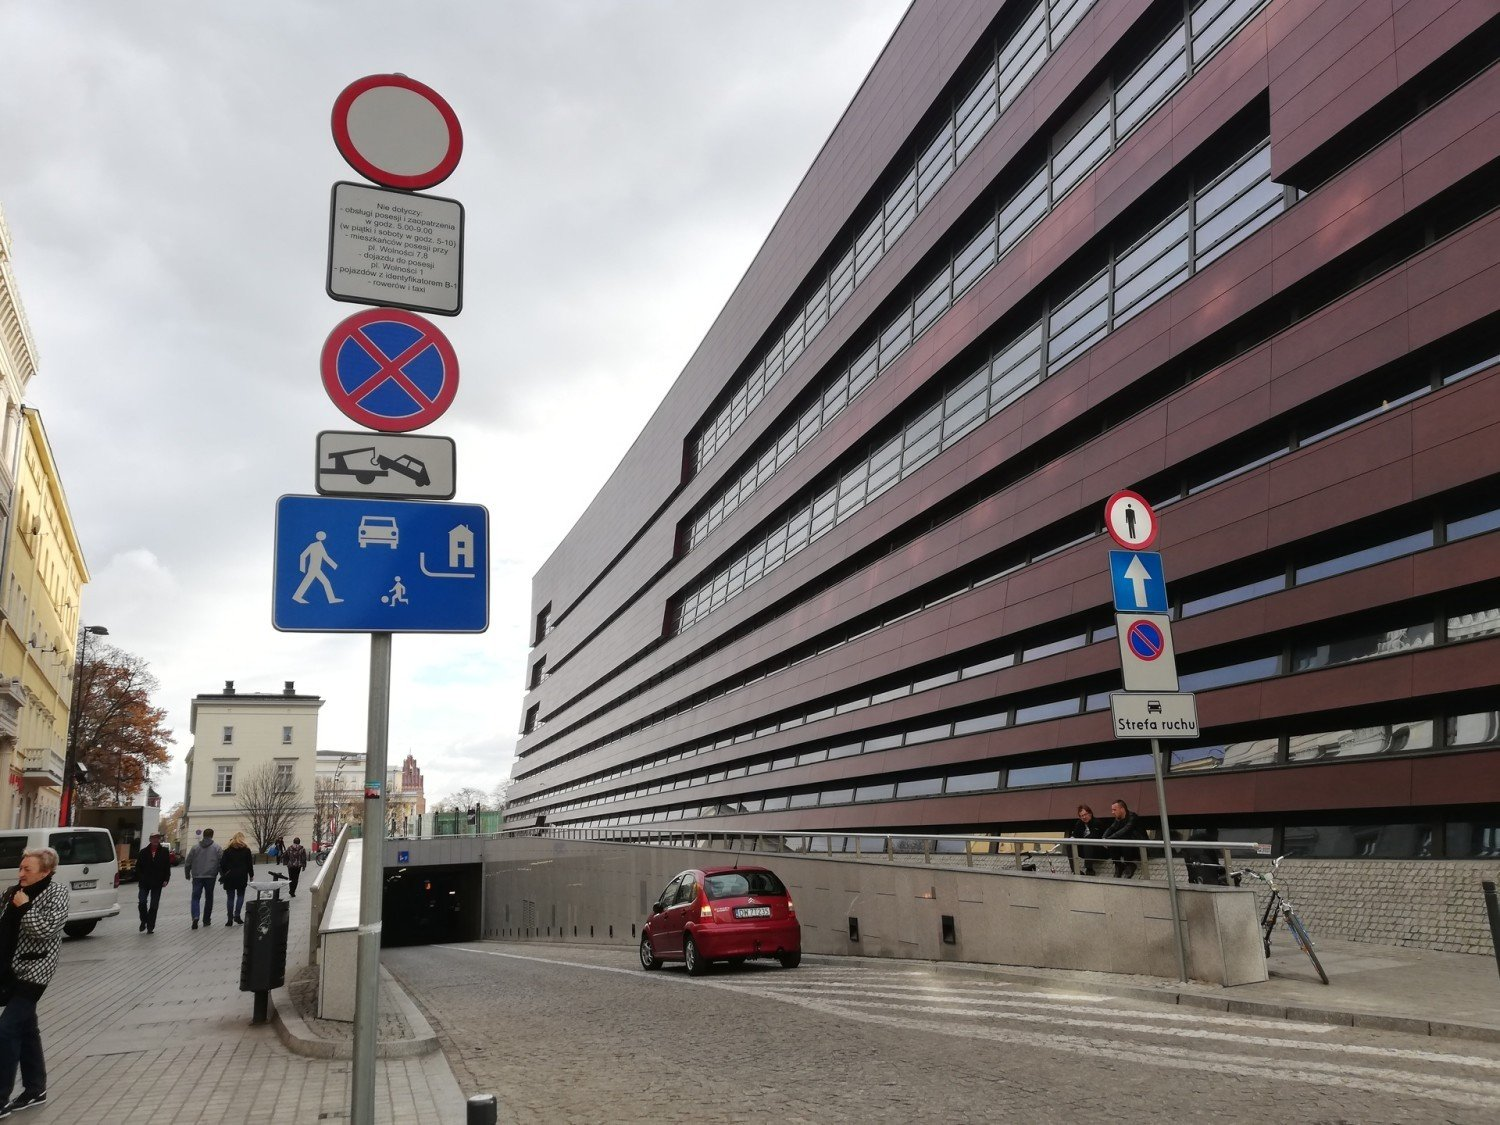no_entry_sign: (328, 73, 461, 189)
